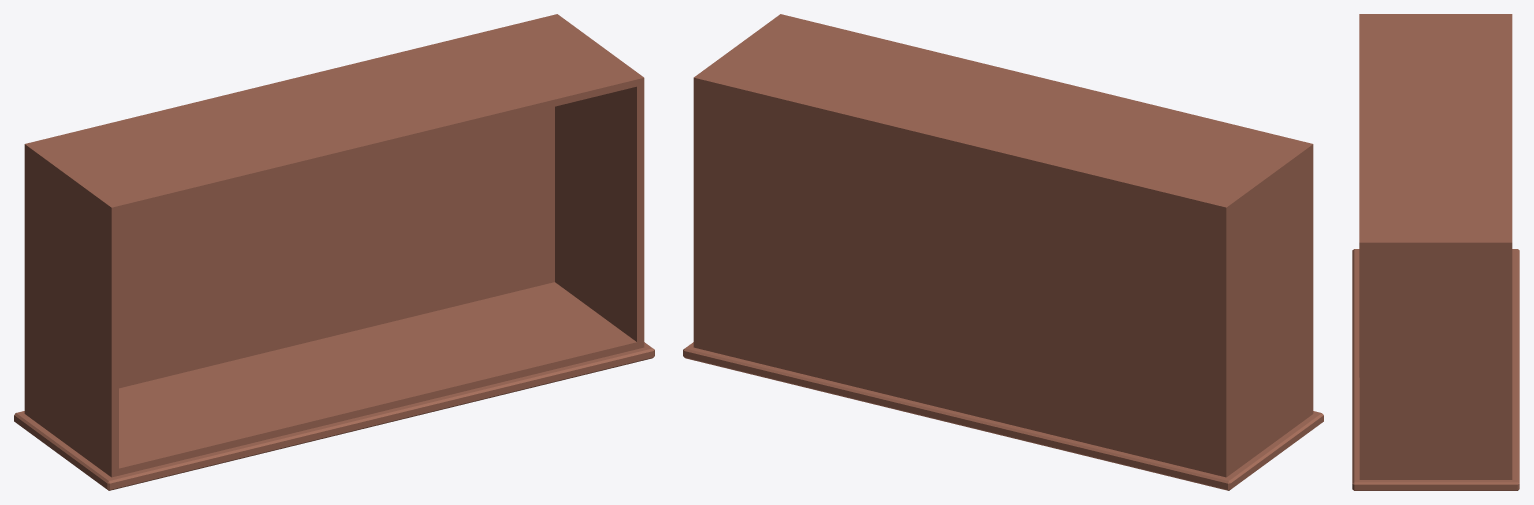
File: DrawermeshDeskDrawer_308_1_1_3.obj
3 renders of one model, left to right at view 1: azimuth 30°, elevation 25°; view 2: azimuth 150°, elevation 25°; view 3: azimuth 270°, elevation 25°, orthographic. The views are drawn at different scales.
Parts seen in each view (by area): view 1: DeskDrawer_308_1_1; view 2: DeskDrawer_308_1_1; view 3: DeskDrawer_308_1_1.
Part boxes in pixels (<box>): DeskDrawer_308_1_1: <box>14,14,654,490</box>; DeskDrawer_308_1_1: <box>683,14,1323,490</box>; DeskDrawer_308_1_1: <box>1352,14,1519,490</box>.
Size of the model in its own units: 0.6789 by 0.3315 by 0.2042.
